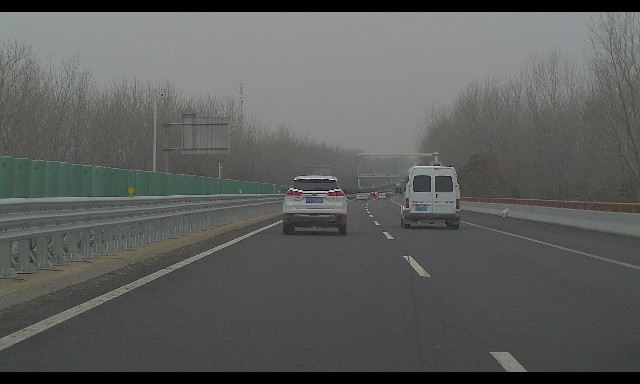car: (396, 166, 461, 230), (282, 175, 351, 235), (355, 193, 367, 201), (377, 193, 386, 200), (369, 191, 377, 198), (364, 193, 372, 199), (382, 192, 390, 198), (388, 190, 394, 196)
truck: (394, 182, 403, 195)
